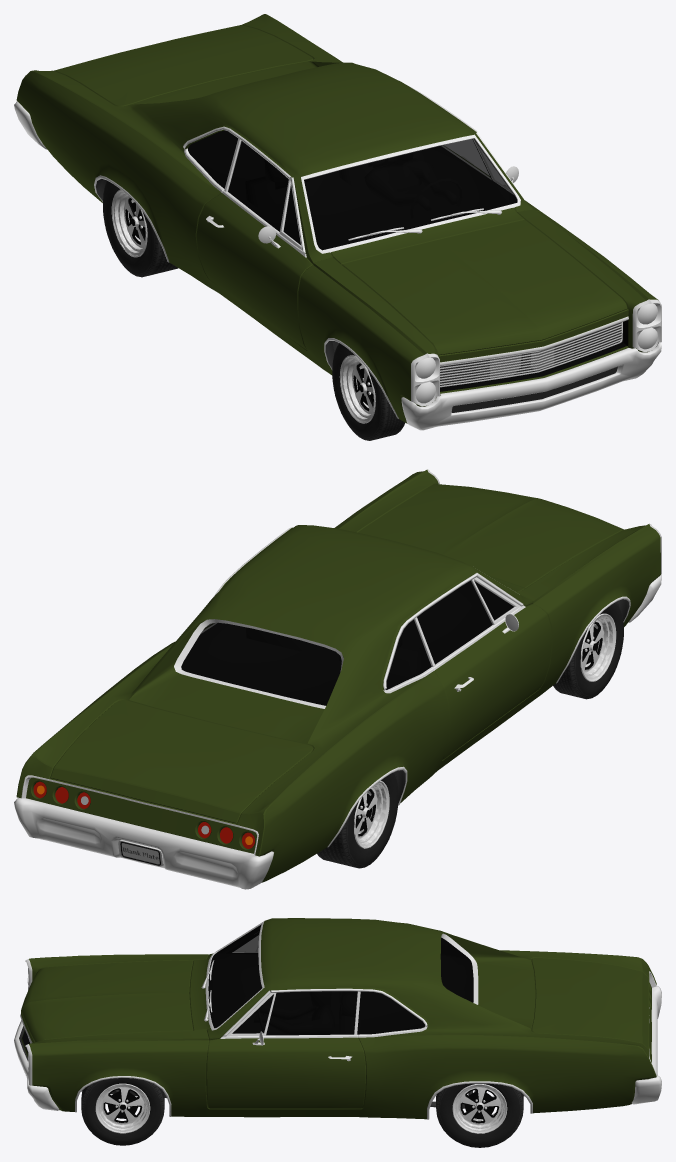
The model's file is MuscleCar.fbx.
The picture shows the model from 3 angles, top to bottom: view 1: azimuth 30°, elevation 25°; view 2: azimuth 150°, elevation 25°; view 3: azimuth 270°, elevation 25°; orthographic projection. The views are drawn at different scales.
Parts seen in each view (by area): view 1: MuscleCar, M_FRWheel, Generic_Ped, M_RRWheel, M_FRWheel_LOD, M_RRWheel_LOD, M_Extras; view 2: MuscleCar, M_RRWheel, M_FRWheel, M_FRWheel_LOD, M_RRWheel_LOD, Generic_Plates; view 3: MuscleCar, M_RLWheel, M_FLWheel, M_FLWheel_LOD, M_RLWheel_LOD, Generic_Ped.
Boxes of the visible parts, x1,y1,x2,y2 form: MuscleCar: [14, 14, 661, 430]; M_FRWheel: [332, 343, 404, 440]; Generic_Ped: [364, 152, 457, 210]; M_RRWheel: [103, 180, 178, 277]; M_FRWheel_LOD: [332, 345, 404, 440]; M_RRWheel_LOD: [103, 181, 158, 277]; M_Extras: [348, 178, 501, 240]; MuscleCar: [14, 469, 661, 889]; M_RRWheel: [317, 772, 398, 868]; M_FRWheel: [553, 601, 623, 699]; M_FRWheel_LOD: [553, 603, 623, 698]; M_RRWheel_LOD: [317, 772, 398, 868]; Generic_Plates: [118, 839, 163, 866]; MuscleCar: [14, 918, 661, 1119]; M_RLWheel: [436, 1083, 523, 1147]; M_FLWheel: [81, 1078, 164, 1145]; M_FLWheel_LOD: [81, 1078, 164, 1145]; M_RLWheel_LOD: [436, 1083, 523, 1147]; Generic_Ped: [253, 991, 334, 1035].
Size of what is drawn, in the model's own units: 195 by 141 by 528.
